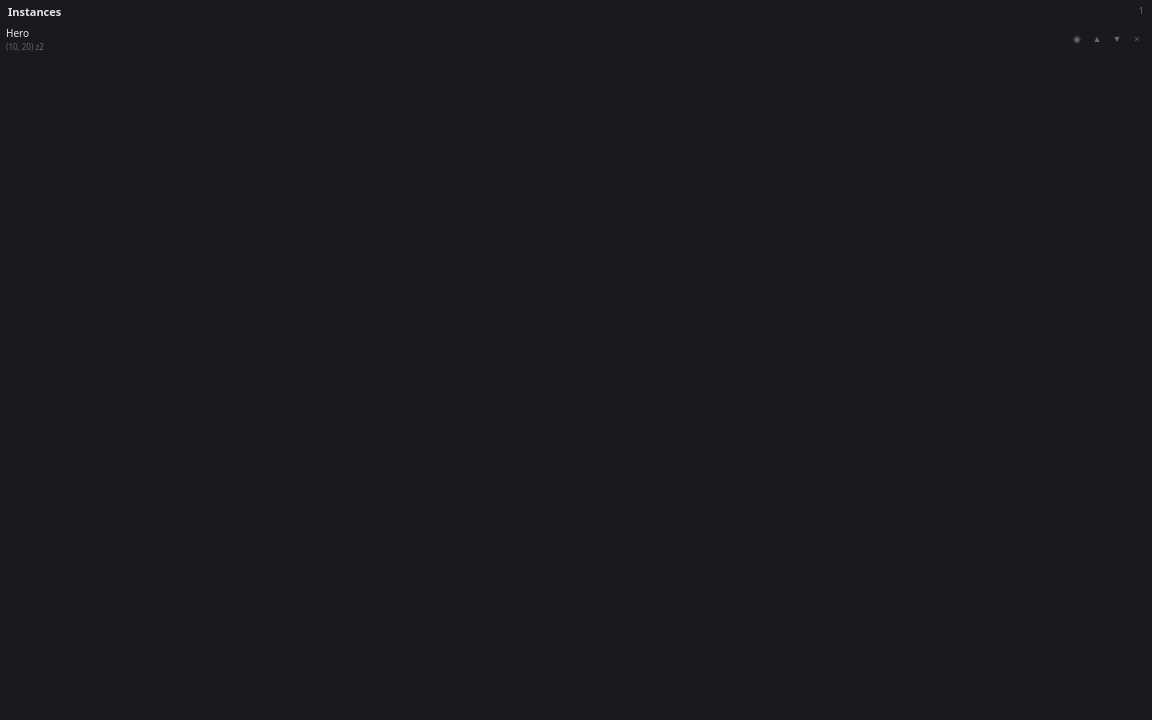
SceneInstancesPanel › clicking an instance shows detail pane with source
The width and height of the screenshot is (1152, 720).
Click the text "Hero": (18, 33) [6, 26, 29, 40]
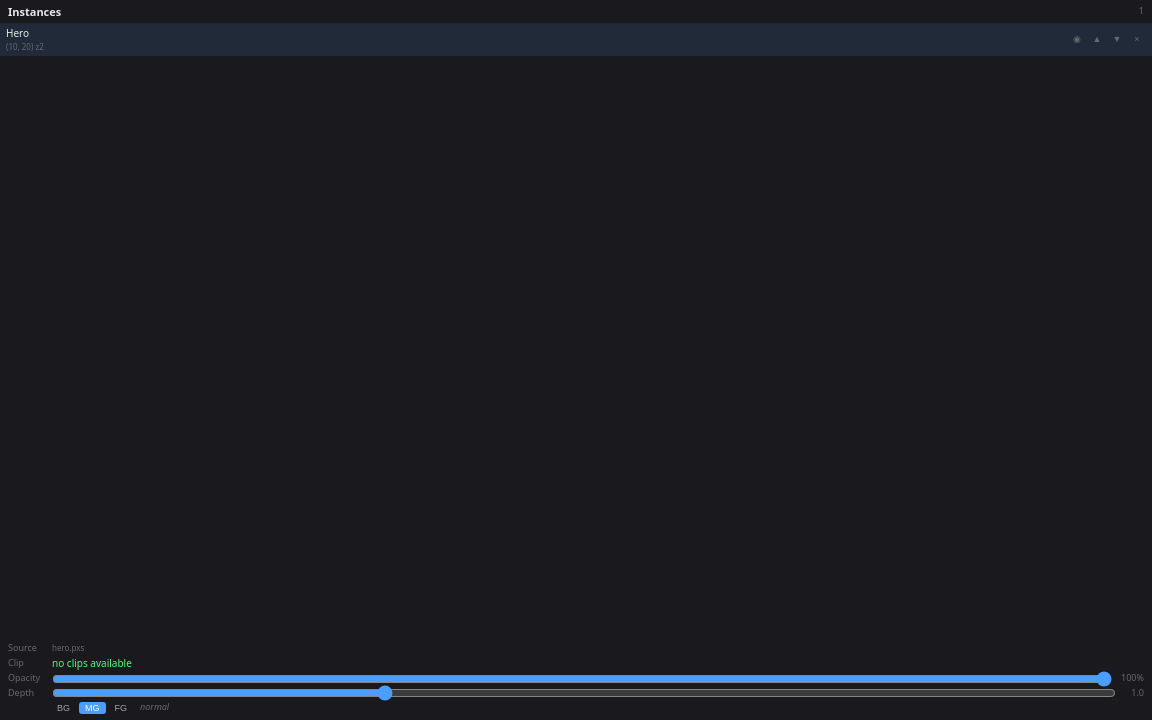
Expected: the text "Source" is shown, [8, 641, 37, 654]
Expected: the text "hero.pxs" is shown, [52, 642, 84, 654]
